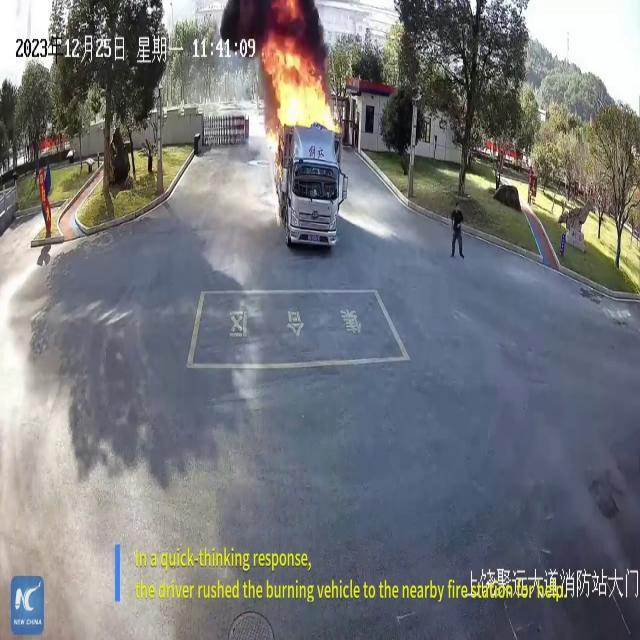Fire: (260, 38, 338, 140)
Smoke: (0, 236, 80, 626), (214, 0, 334, 50)
